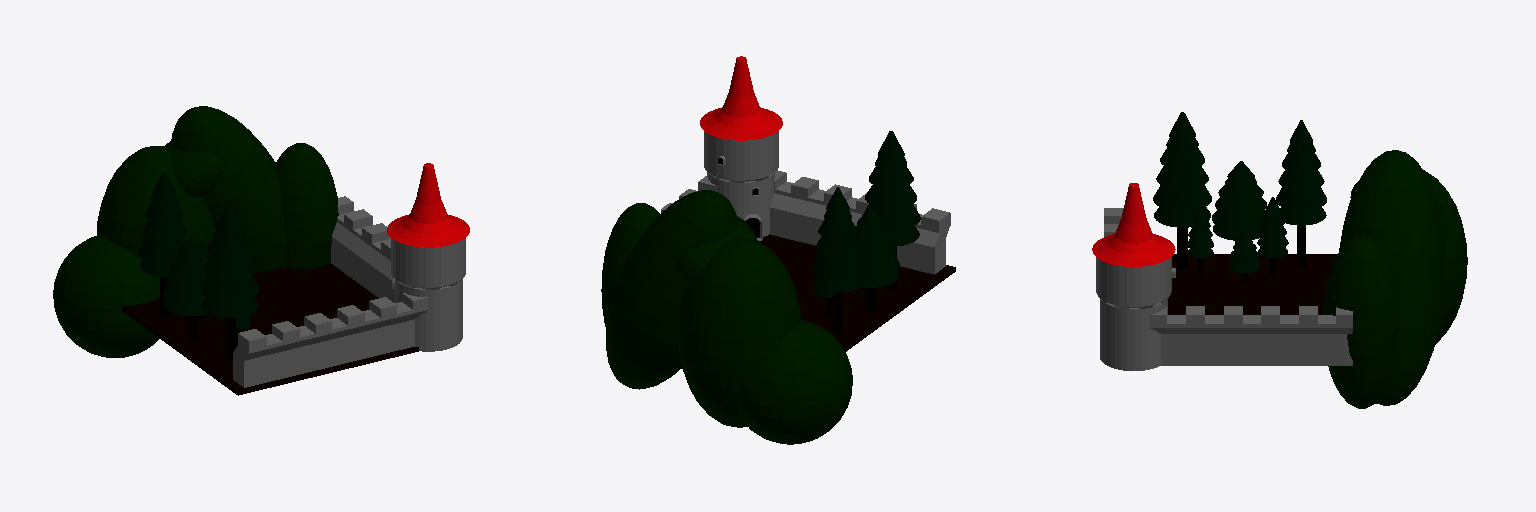
File: test-castle.obj
3 views of the same model, side by side, from view 1: azimuth 30°, elevation 25°; view 2: azimuth 150°, elevation 25°; view 3: azimuth 270°, elevation 25° (orthographic).
Parts seen in each view (by area): view 1: Cube; view 2: Cube; view 3: Cube.
Boxes of the visible parts, x1,y1,x2,y2 form: Cube: [53, 106, 469, 395]; Cube: [601, 56, 955, 444]; Cube: [1092, 112, 1467, 408].
Bounding box in the file's own units: 51.15 × 43.14 × 61.28.